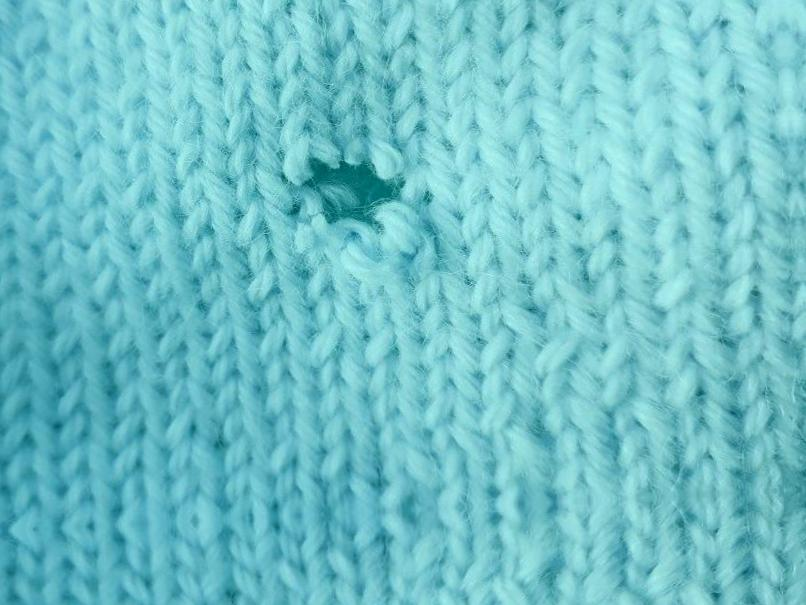hole: (291, 145, 421, 249)
